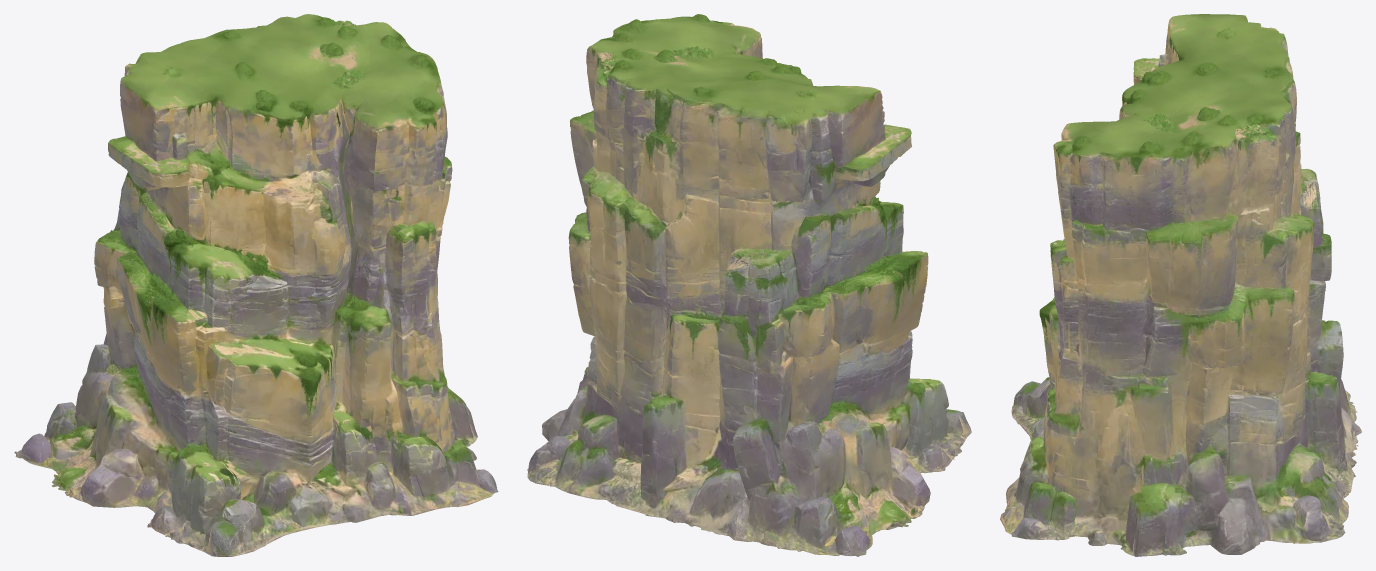
The model's file is cliff.glb.
3 views of the same model, side by side, from view 1: azimuth 30°, elevation 25°; view 2: azimuth 150°, elevation 25°; view 3: azimuth 270°, elevation 25° (orthographic).
Visible parts, largest first — view 1: Mesh_0; view 2: Mesh_0; view 3: Mesh_0.
Boxes of the visible parts, left/top/right/bottom form: Mesh_0: left=14, top=14, right=498, bottom=556; Mesh_0: left=527, top=14, right=971, bottom=556; Mesh_0: left=1000, top=14, right=1361, bottom=556.
Size of the model in its own units: 1.85 by 1.9 by 1.56.
1 material, 1 textured.
